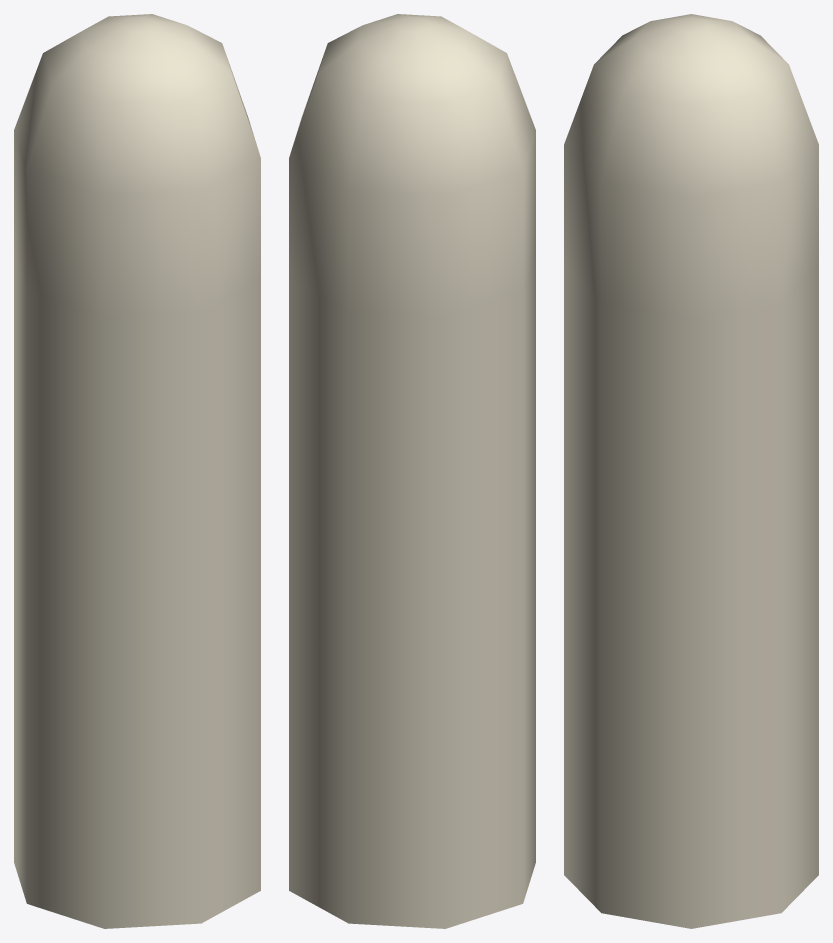
File: Pino.fbx
The picture shows the model from 3 angles, left to right: view 1: azimuth 30°, elevation 25°; view 2: azimuth 150°, elevation 25°; view 3: azimuth 270°, elevation 25°; orthographic projection.
Visible parts, largest first — view 1: Pino de Transito.001; view 2: Pino de Transito.001; view 3: Pino de Transito.001.
Boxes of the visible parts, bbox=[...] form: Pino de Transito.001: bbox=[14, 14, 260, 928]; Pino de Transito.001: bbox=[289, 14, 535, 928]; Pino de Transito.001: bbox=[564, 14, 818, 928].
Size of the model in its own units: 27.76 by 102 by 27.76.
